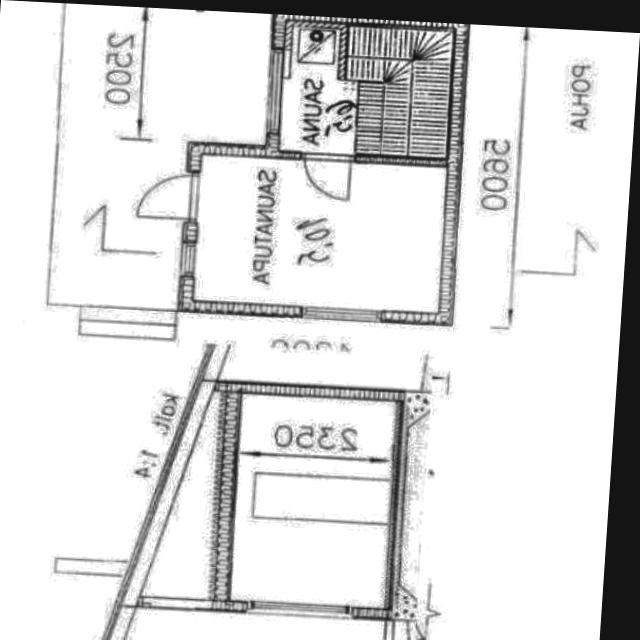room: (192, 154, 446, 314), (229, 394, 398, 608), (278, 20, 454, 160)
